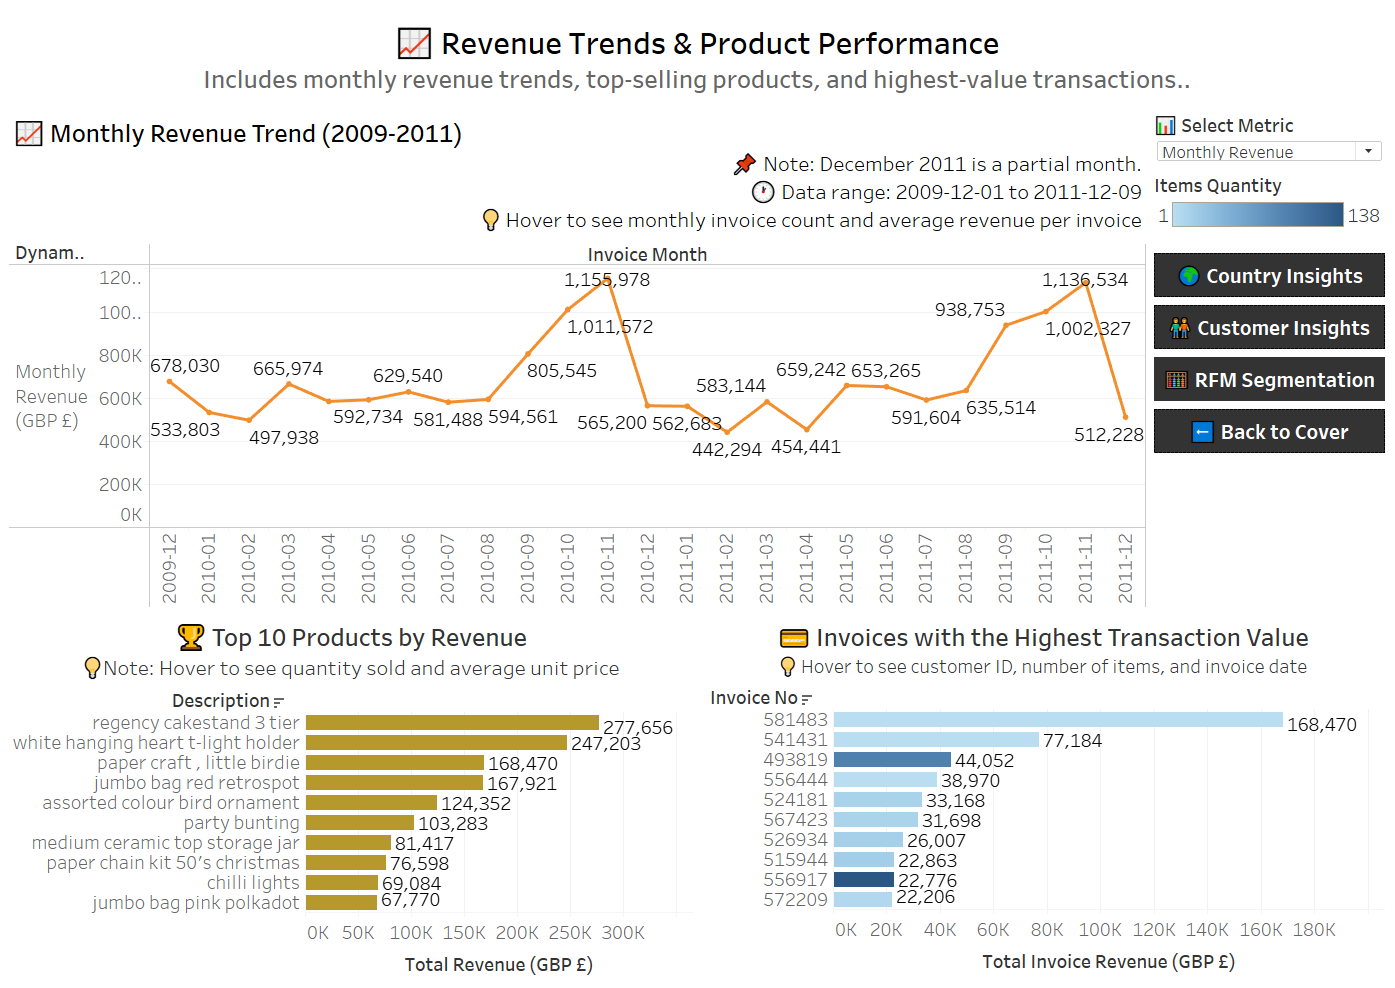

The dashboard page shown, as its layout file describes it:
{"tool":"tableau","page":{"name":"dashboard_1_sales_overview","canvas":[1400,1000],"ordinal":1},"visuals":[{"type":"text","box":[8,8,1384,100]},{"type":"worksheet","title":"01_monthly_revenue","mark":"Line","rows":["Calculation_388716965200945153","Calculation_388716965198704640"],"cols":["invoice_month"],"box":[8,108,1144.8,504]},{"type":"parameter","param":"[Parameters].[Parameter 1]","box":[1152.8,108,239,60]},{"type":"legend","title":"03_top_invoices_by_value","param":"[federated.0e4b2ya03gvbvl16tfsq70r717gx].[sum:invoice_items:qk]","box":[1152.8,168,239,81]},{"type":"dashboard-object","box":[1152.8,249,239,52]},{"type":"dashboard-object","box":[1152.8,301,239,52]},{"type":"dashboard-object","box":[1152.8,353,239,52]},{"type":"dashboard-object","box":[1152.8,405,239,52]},{"type":"worksheet","title":"02_top_products_by_revenue","mark":"Automatic","rows":["description"],"cols":["total_revenue"],"box":[8,612,692,380]},{"type":"worksheet","title":"03_top_invoices_by_value","mark":"Automatic","rows":["invoice_no"],"cols":["total_invoice_revenue"],"box":[700,612,692,380]}]}

Visuals, with their boxes in screenshot pixels (x1, y1, x2, y2), scaled from the page's 1400x1000 canvas onto the 1395x988 screenshot:
text: l=8, t=8, r=1387, b=107
"01_monthly_revenue" worksheet (Line marks): l=8, t=107, r=1149, b=605
parameter: l=1149, t=107, r=1387, b=166
"03_top_invoices_by_value" legend: l=1149, t=166, r=1387, b=246
dashboard-object: l=1149, t=246, r=1387, b=297
dashboard-object: l=1149, t=297, r=1387, b=349
dashboard-object: l=1149, t=349, r=1387, b=400
dashboard-object: l=1149, t=400, r=1387, b=452
"02_top_products_by_revenue" worksheet: l=8, t=605, r=698, b=980
"03_top_invoices_by_value" worksheet: l=698, t=605, r=1387, b=980
